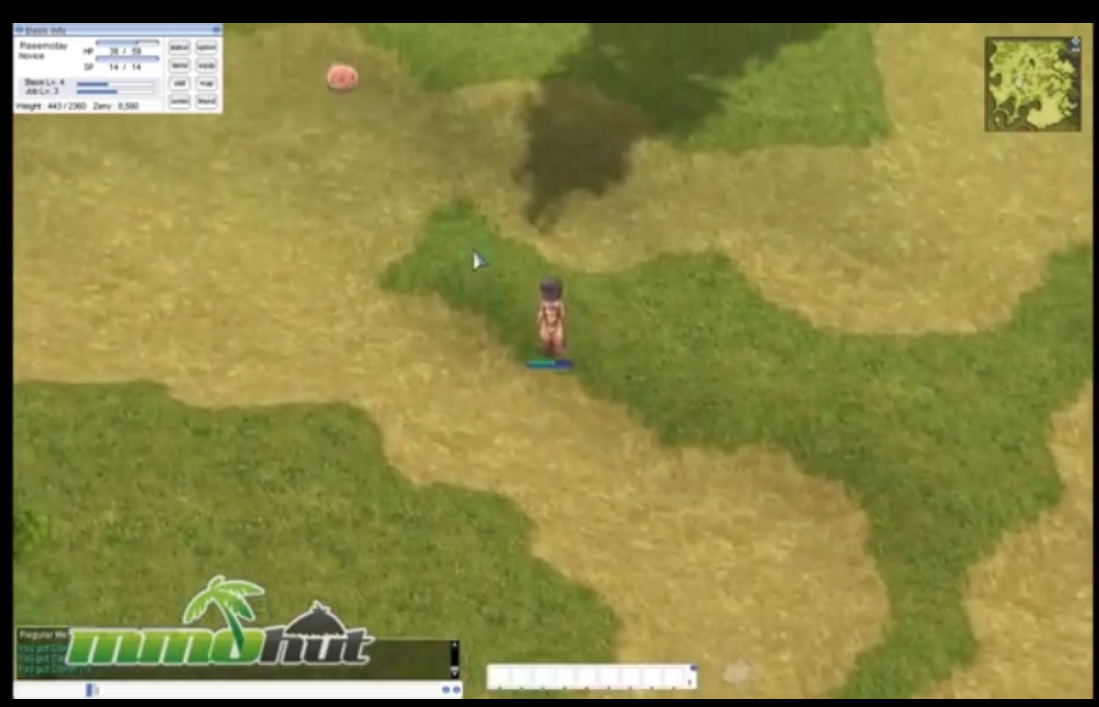porling: (317, 58, 359, 92)
